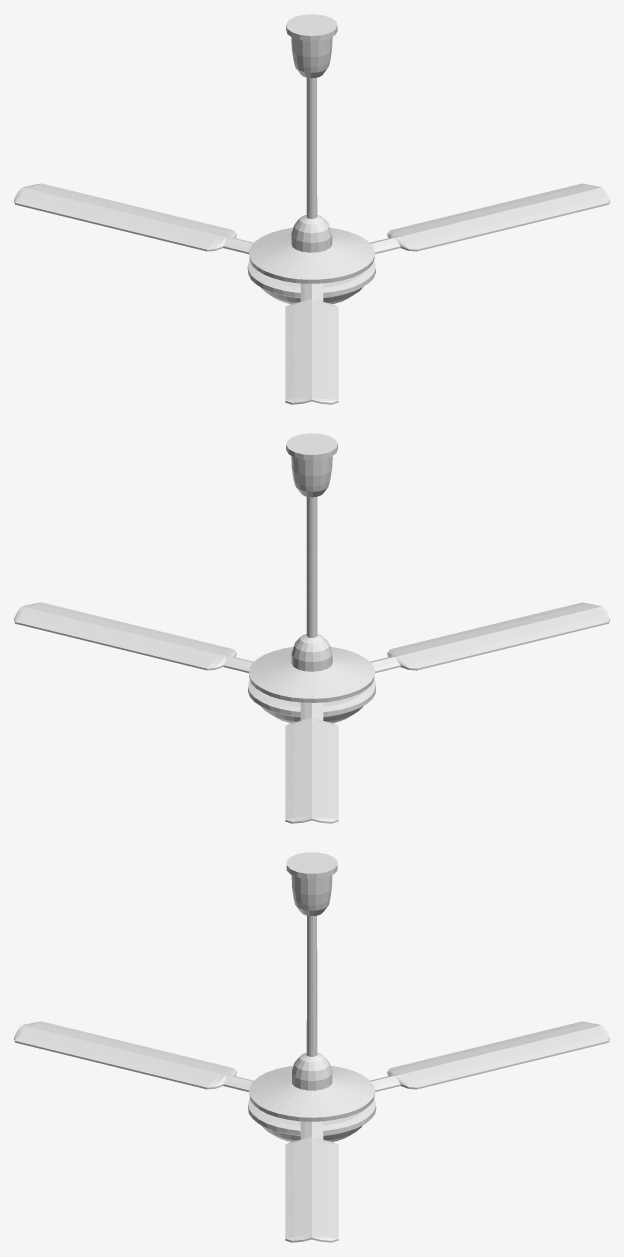
File: V0TORHEAQ151GVFM0YPMY8H13.obj
The picture shows the model from 3 angles, top to bottom: view 1: azimuth 30°, elevation 25°; view 2: azimuth 150°, elevation 25°; view 3: azimuth 270°, elevation 25°; orthographic projection.
Parts seen in each view (by area): view 1: Object_TexMap7_0; view 2: Object_TexMap7_0; view 3: Object_TexMap7_0.
Boxes of the visible parts, left/top/right/bottom form: Object_TexMap7_0: left=14, top=14, right=609, bottom=404; Object_TexMap7_0: left=14, top=433, right=609, bottom=823; Object_TexMap7_0: left=14, top=852, right=609, bottom=1242.
Size of the model in its own units: 2.19 by 1.25 by 2.5.
1 material, 1 textured.
